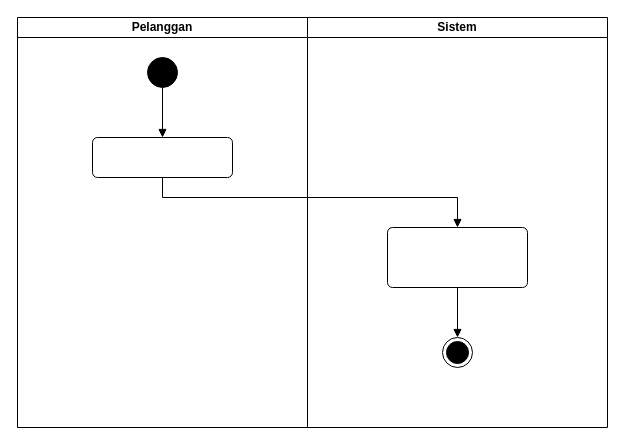
Image size: 625x445. Some labels were removed from this diagram. Each missing label, with the centre of its shape:
"Melihat Daftar Menu" belongs at pixel 162 157.
"Menampilkan Daftar Menu beserta harga dan ketersediannya" belongs at pixel 457 257.
